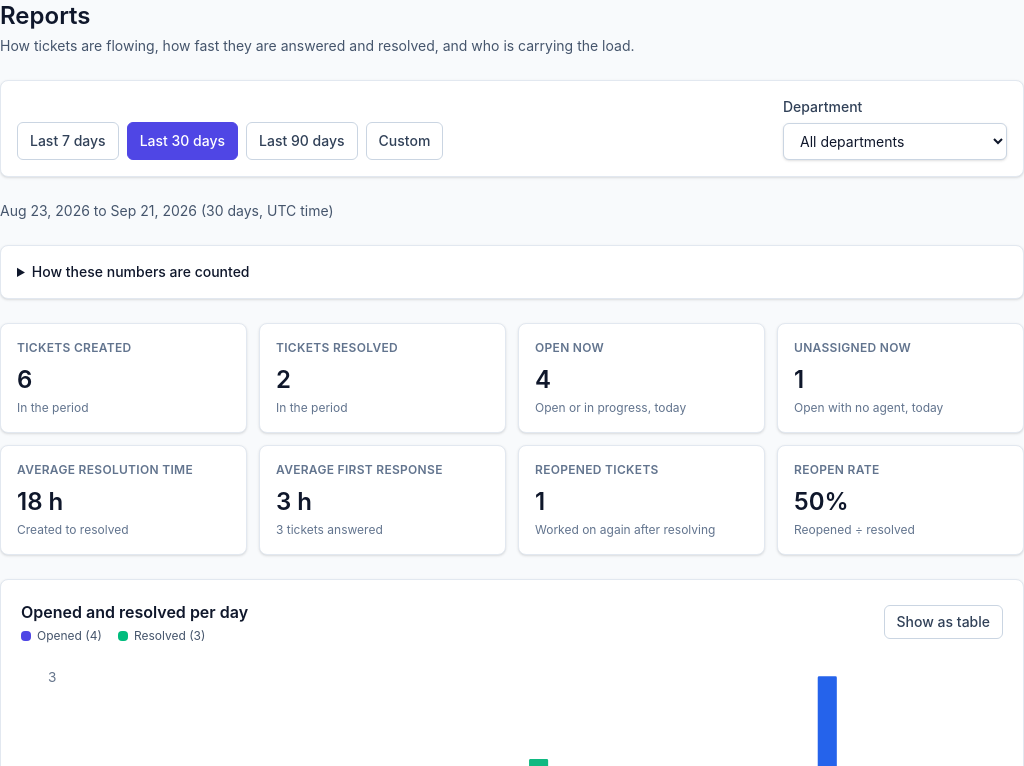
Scenario: ReportsPage › describes the chart for screen readers and offers the same numbers as a table
Click the button "Show as table". click: [943, 622]
box: x1=884 y1=605 x2=1003 y2=639
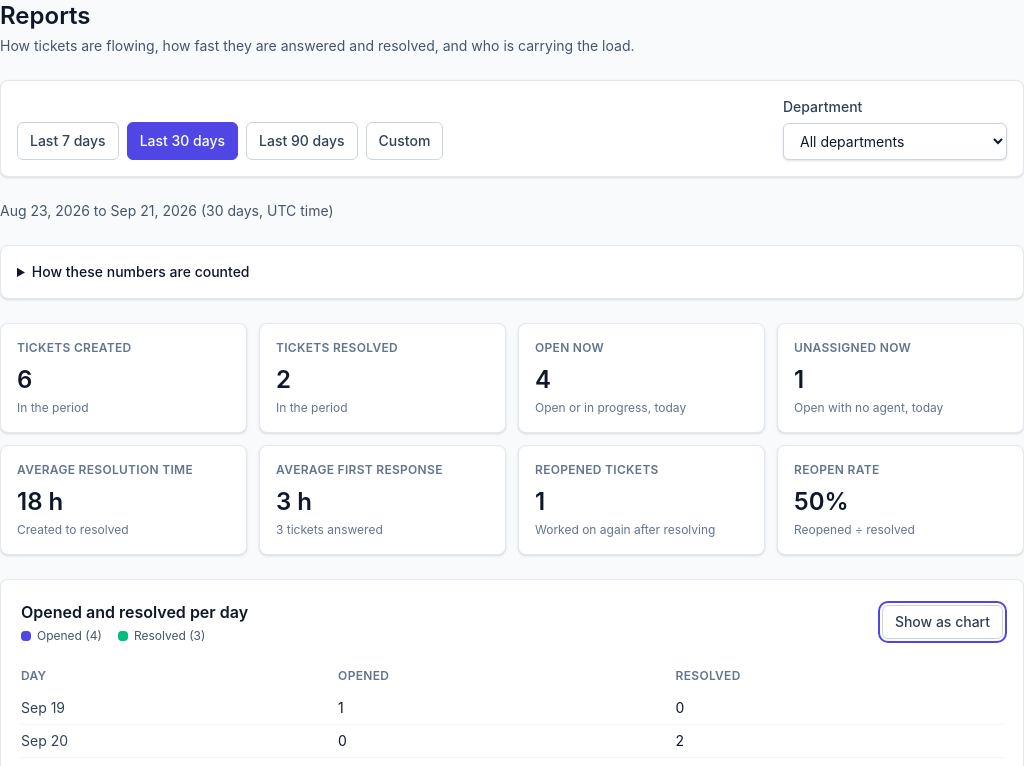
Click the button "Show as chart". click: [942, 622]
box: x1=882 y1=605 x2=1003 y2=639
(page scrolled)
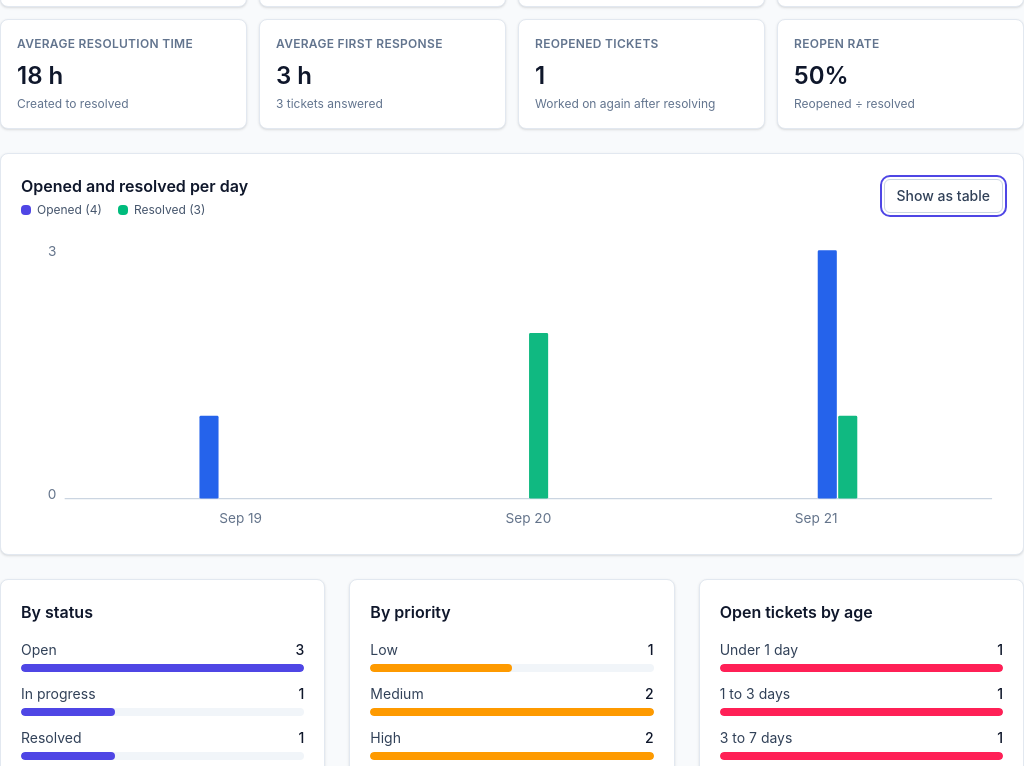
Now the picture named "opened and resolved per day" is shown, box x1=21 y1=234 x2=1003 y2=534
